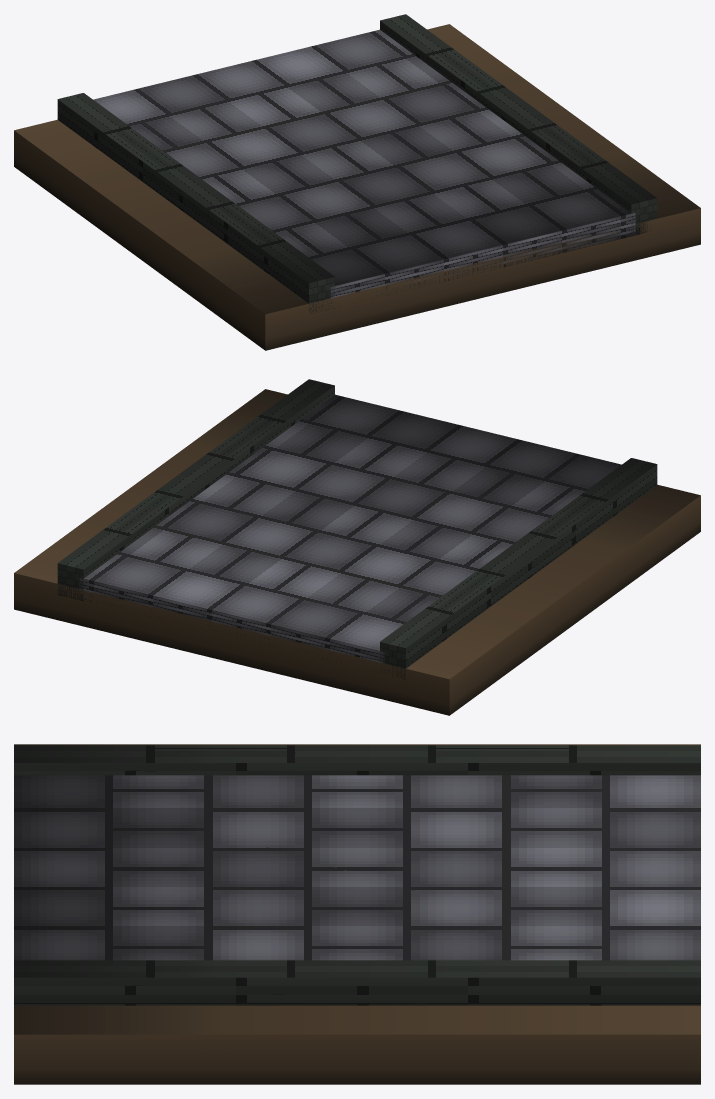
The model's file is road_straight.gltf.
3 views of the same model, one above another, from view 1: azimuth 30°, elevation 25°; view 2: azimuth 150°, elevation 25°; view 3: azimuth 270°, elevation 25° (orthographic). The views are drawn at different scales.
Parts seen in each view (by area): view 1: road_straight; view 2: road_straight; view 3: road_straight.
Part boxes in pixels (left/top/right/bottom): road_straight: left=14, top=14, right=700, bottom=350; road_straight: left=14, top=379, right=700, bottom=715; road_straight: left=14, top=744, right=700, bottom=1084.
Size of the model in its own units: 1 by 0.125 by 1.
1 material, 1 textured.
